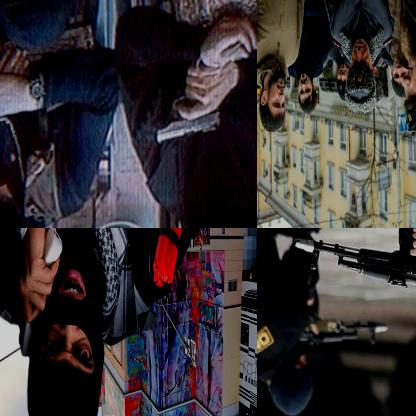pistol: (152, 80, 223, 147)
rifle: (289, 228, 415, 300), (293, 316, 389, 349)
